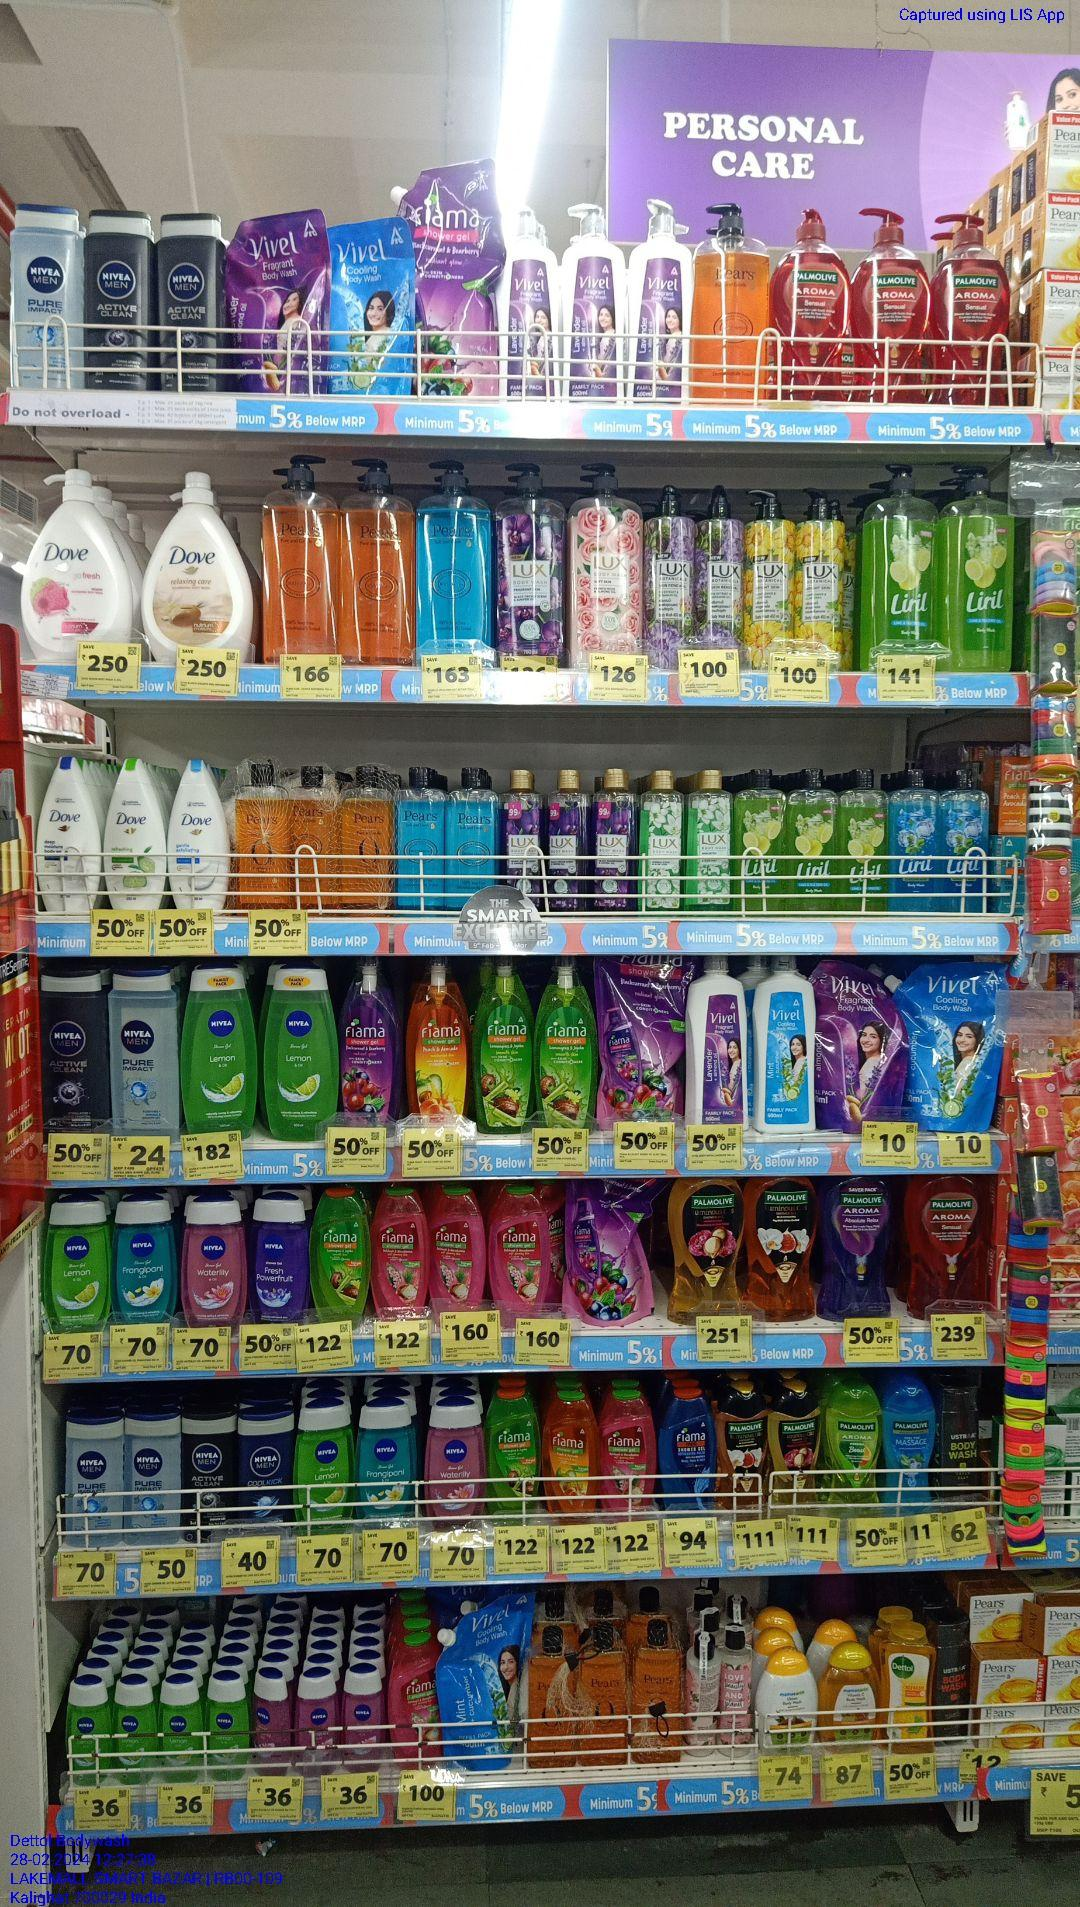Dettol_Bodywash_Refresh: (882, 1623, 935, 1756)
Dove_Deep_Moisture_Body_Wash_250ML: (39, 754, 98, 916)
Dove_Gentle_Exfoliating_Body_Wash_250ML: (169, 758, 229, 913)
Dove_Refreshing_Body_Wash_250ML: (105, 756, 166, 913)
Fiama_Shower_Gel_Lemongrass_and_Jojoba_250ML: (312, 1189, 367, 1327), (487, 1388, 539, 1527)
Fiama_Shower_Gel_Patchouli_and_Macadamia_250ML: (490, 1185, 547, 1327), (429, 1187, 486, 1324), (373, 1187, 427, 1322), (600, 1390, 652, 1522), (397, 1632, 439, 1771)
Fiama_Shower_Gel_Peach_and_Avocado_250ML: (545, 1390, 594, 1525)
Liril_Cooling_Mint_Body_Wash_250ML: (891, 768, 943, 917), (945, 762, 991, 914)
Liril_Lime_and_Tea_Tree_Oil_Body_Wash_250ML: (733, 769, 785, 918), (791, 764, 835, 916), (840, 768, 888, 910)
Lux_Black_Orchid_Scent_and_Juniper_Oil_Body_Wash_245ML: (590, 770, 636, 916), (500, 769, 542, 916), (546, 768, 586, 916)
Lux_Body_Wash_Skin_Detox_Freesia_Scent_and_Alove_Vera_245ML: (639, 769, 682, 919), (690, 766, 730, 913)
Nivea_Shower_Gel_Frangipani_and_Oil_250ML: (117, 1192, 174, 1324), (357, 1404, 414, 1531)
Nivea_Shower_Gel_Fresh_Powerfruit_250ML: (250, 1193, 305, 1322)
Nivea_Shower_Gel_Lemon_and_Oil_250ML: (266, 964, 335, 1142), (186, 965, 255, 1138), (48, 1192, 109, 1335), (297, 1400, 352, 1536), (160, 1676, 203, 1783), (65, 1678, 107, 1787), (111, 1678, 153, 1783), (208, 1675, 249, 1781)
Nivea_Shower_Gel_Waterlily_and_Oil_250ML: (185, 1194, 245, 1336), (428, 1395, 482, 1532), (340, 1670, 386, 1776), (295, 1673, 339, 1777), (250, 1669, 288, 1779)
Palmolive_Aroma_Moments_Feel_The_Massage_Shower_Gel_250ML: (885, 1384, 939, 1519)
Palmolive_Aroma_Morning_Tonic_Shower_Gel_250ML: (823, 1380, 882, 1519)
Palmolive_Aroma_Relax_250ML: (823, 1176, 891, 1319)
Palmolive_Luminous_Oils_Invigorating_Macadamia_Oil_With_Peony_250ML: (673, 1176, 744, 1327), (771, 1384, 818, 1517)
Palmolive_Luminous_Oils_With_White_Orchid_Shower_Gel_250ML: (747, 1175, 814, 1320), (717, 1380, 767, 1517)
Pears_Pure_Glycerin_and_Mint_Extracts_Body_Wash_250ML: (448, 765, 496, 921), (395, 768, 444, 921)
